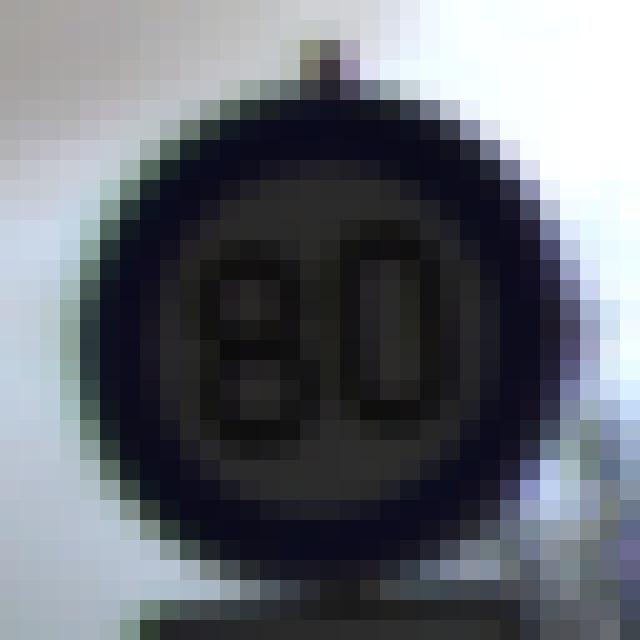SPEED-LIMIT-80: (84, 83, 572, 587)
